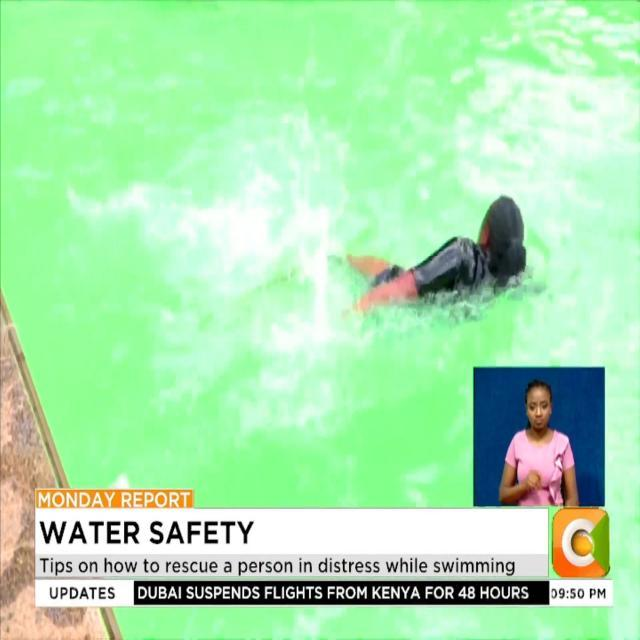swimming: (302, 152, 542, 333)
